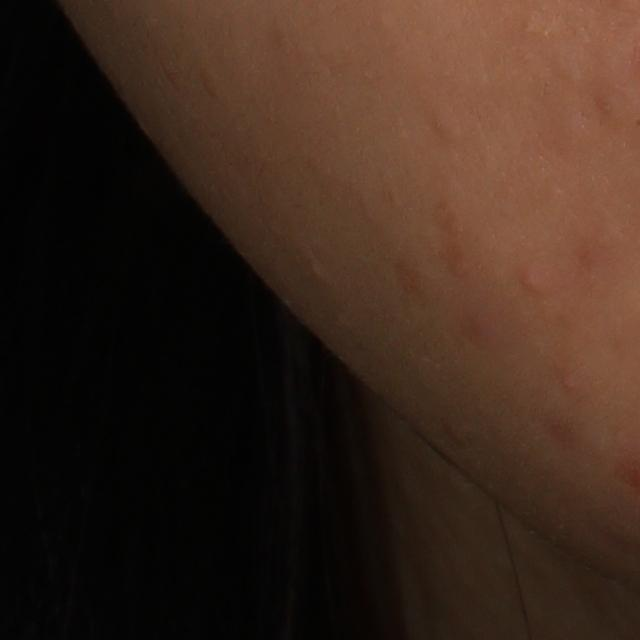comedo: (427, 96, 457, 142)
papule: (521, 270, 543, 293), (563, 375, 577, 391)
